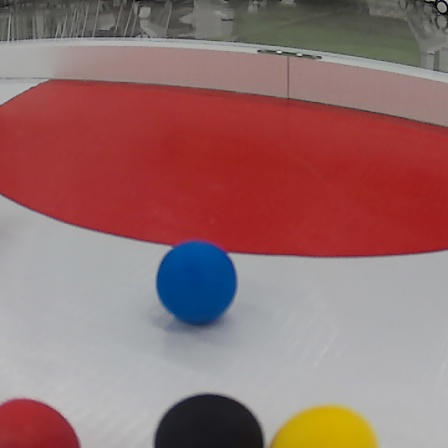black: (157, 394, 265, 448)
blue: (156, 242, 237, 327)
red: (1, 61, 448, 260), (0, 396, 82, 448)
yellow: (268, 402, 380, 448)
